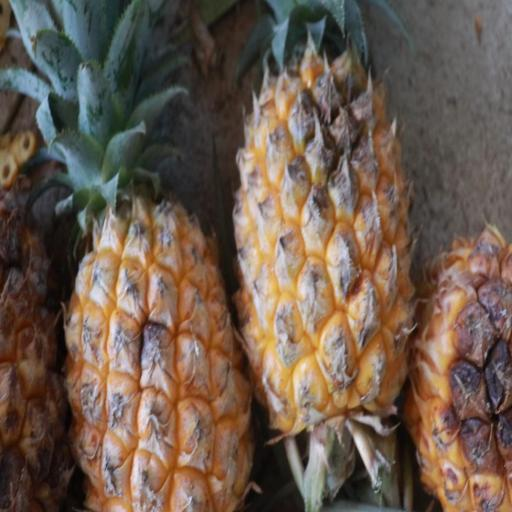Pineapple - v8 v1: (58, 0, 256, 512), (232, 0, 424, 443)
